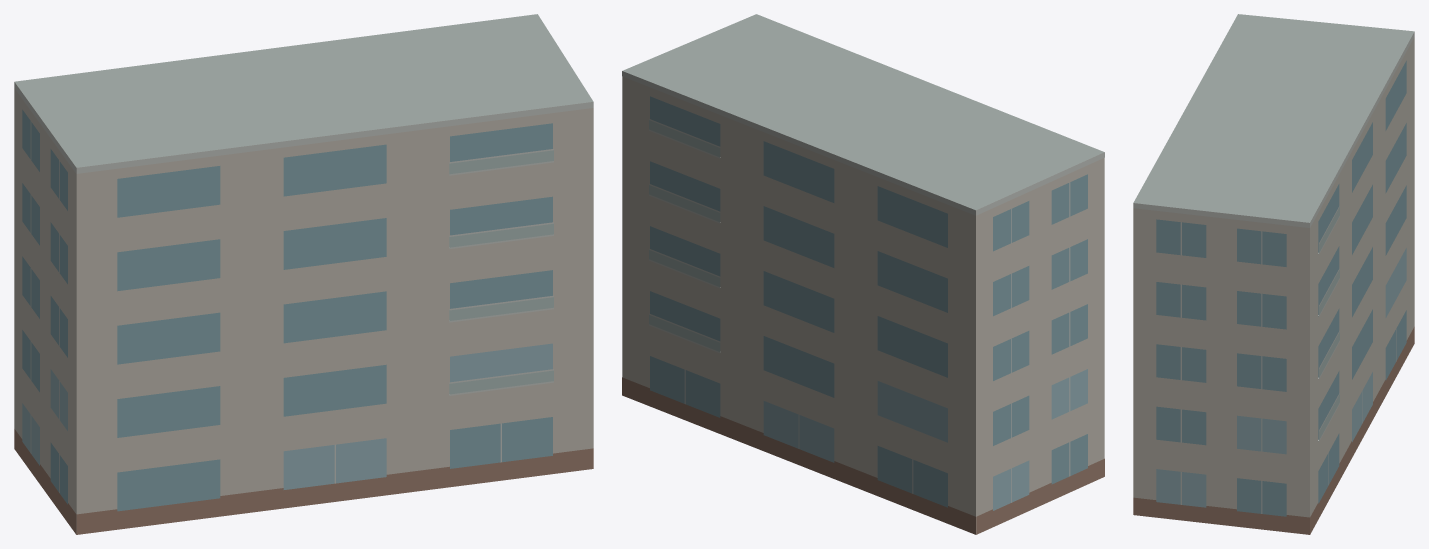
Rendered from survey-upis-32813257.glb.
3 views of the same model, side by side, from view 1: azimuth 30°, elevation 25°; view 2: azimuth 150°, elevation 25°; view 3: azimuth 270°, elevation 25° (orthographic). The views are drawn at different scales.
Parts seen in each view (by area): view 1: survey-upis-32813257.tmp; view 2: survey-upis-32813257.tmp; view 3: survey-upis-32813257.tmp.
Part boxes in pixels (x1=…): survey-upis-32813257.tmp: x1=14, y1=14, x2=593, y2=534; survey-upis-32813257.tmp: x1=622, y1=14, x2=1104, y2=534; survey-upis-32813257.tmp: x1=1133, y1=14, x2=1414, y2=534.
Size of the model in its own units: 21.12 by 14.7 by 12.03.
